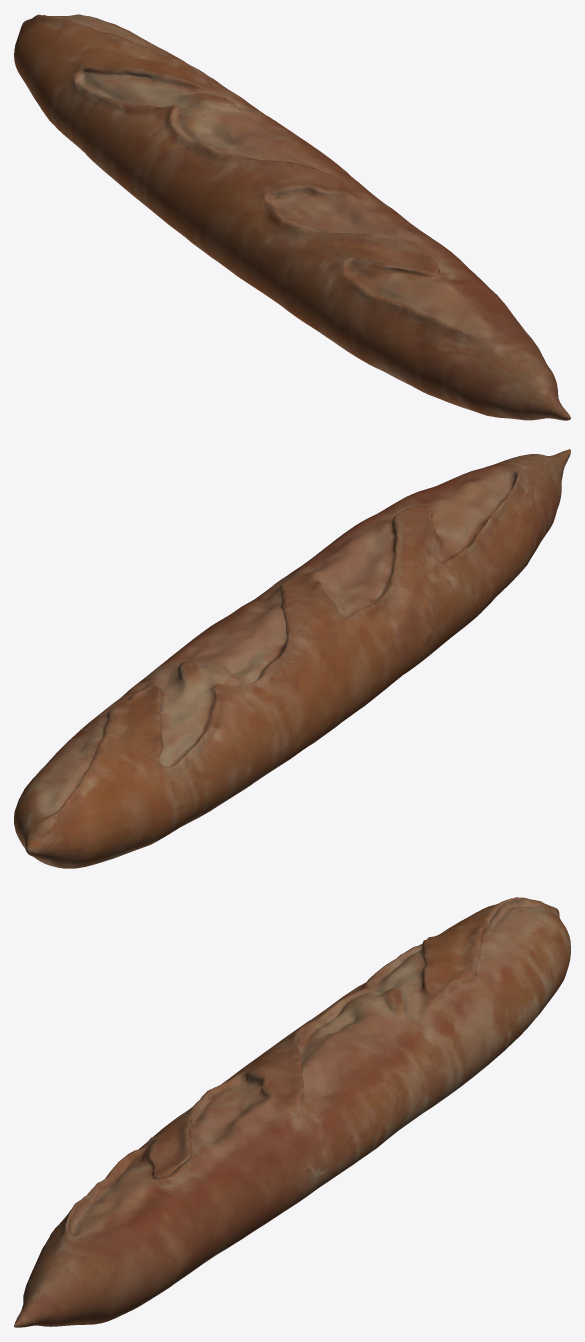
3 renders of one model, top to bottom at view 1: azimuth 30°, elevation 25°; view 2: azimuth 150°, elevation 25°; view 3: azimuth 330°, elevation 25°, orthographic. The views are drawn at different scales.
Visible parts, largest first — view 1: sm_food_prepared_baguette_b01_mesh_00; view 2: sm_food_prepared_baguette_b01_mesh_00; view 3: sm_food_prepared_baguette_b01_mesh_00.
Part boxes in pixels (left/top/right/bottom): sm_food_prepared_baguette_b01_mesh_00: left=14, top=14, right=570, bottom=420; sm_food_prepared_baguette_b01_mesh_00: left=14, top=449, right=570, bottom=868; sm_food_prepared_baguette_b01_mesh_00: left=14, top=897, right=570, bottom=1327.
Size of the model in its own units: 0.0543 by 0.0364 by 0.3402.
Materials: 1 (1 with a texture image).
